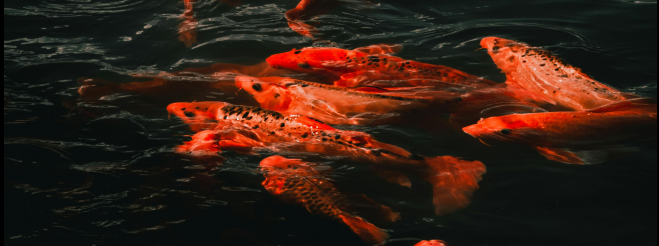fishLarge: (165, 100, 486, 218), (233, 74, 558, 127), (461, 97, 659, 166), (257, 154, 393, 244), (478, 36, 637, 110), (265, 42, 494, 88)
